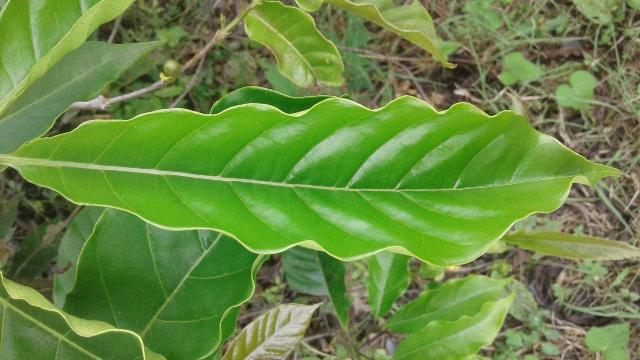healthy: (5, 88, 630, 265)
